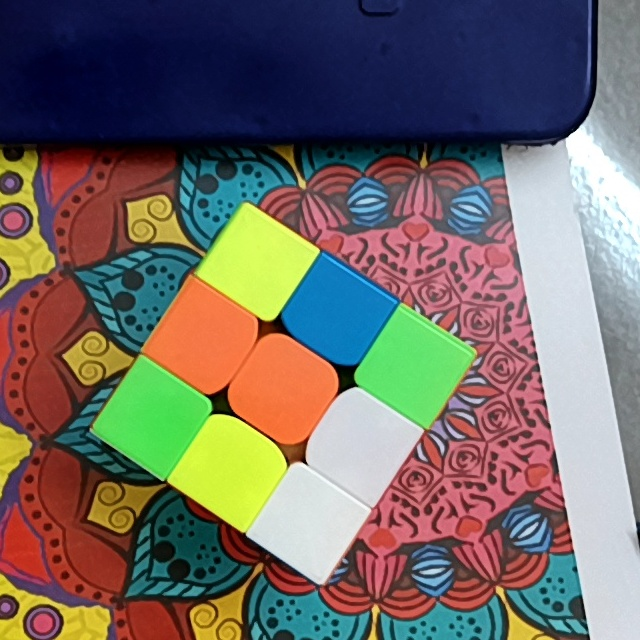tile: (328, 411, 394, 473), (274, 491, 341, 552), (197, 441, 263, 501), (382, 335, 445, 397), (171, 305, 235, 366), (251, 358, 313, 420), (121, 386, 184, 447), (305, 281, 366, 342), (225, 232, 286, 290)
